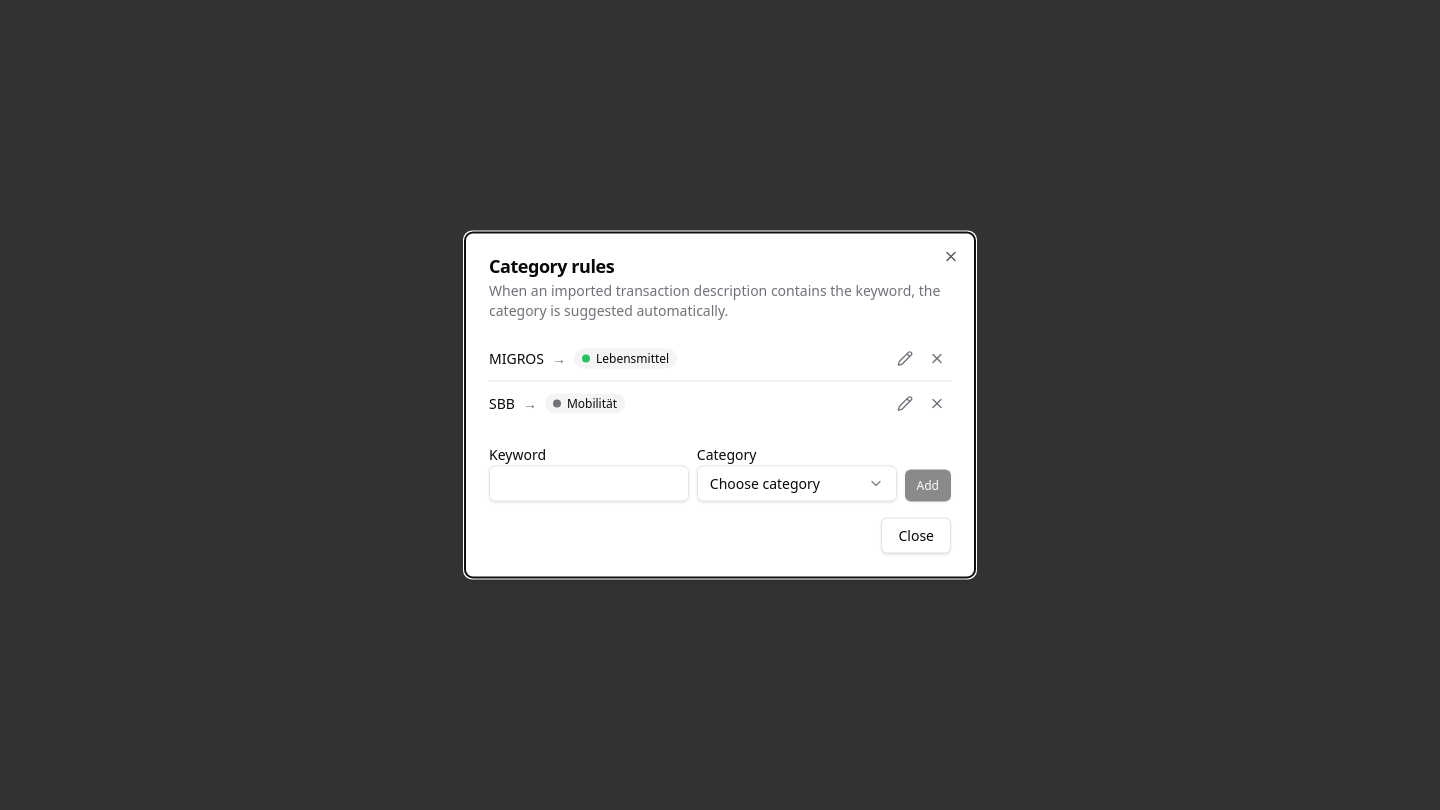
CategoryRulesDialog › shows the backend detail for any other error
Expected: the text "MIGROS" is shown, [489, 348, 544, 368]
Type "MIGROS" into the field labelled "Keyword" at (589,484), box [489, 466, 689, 502]
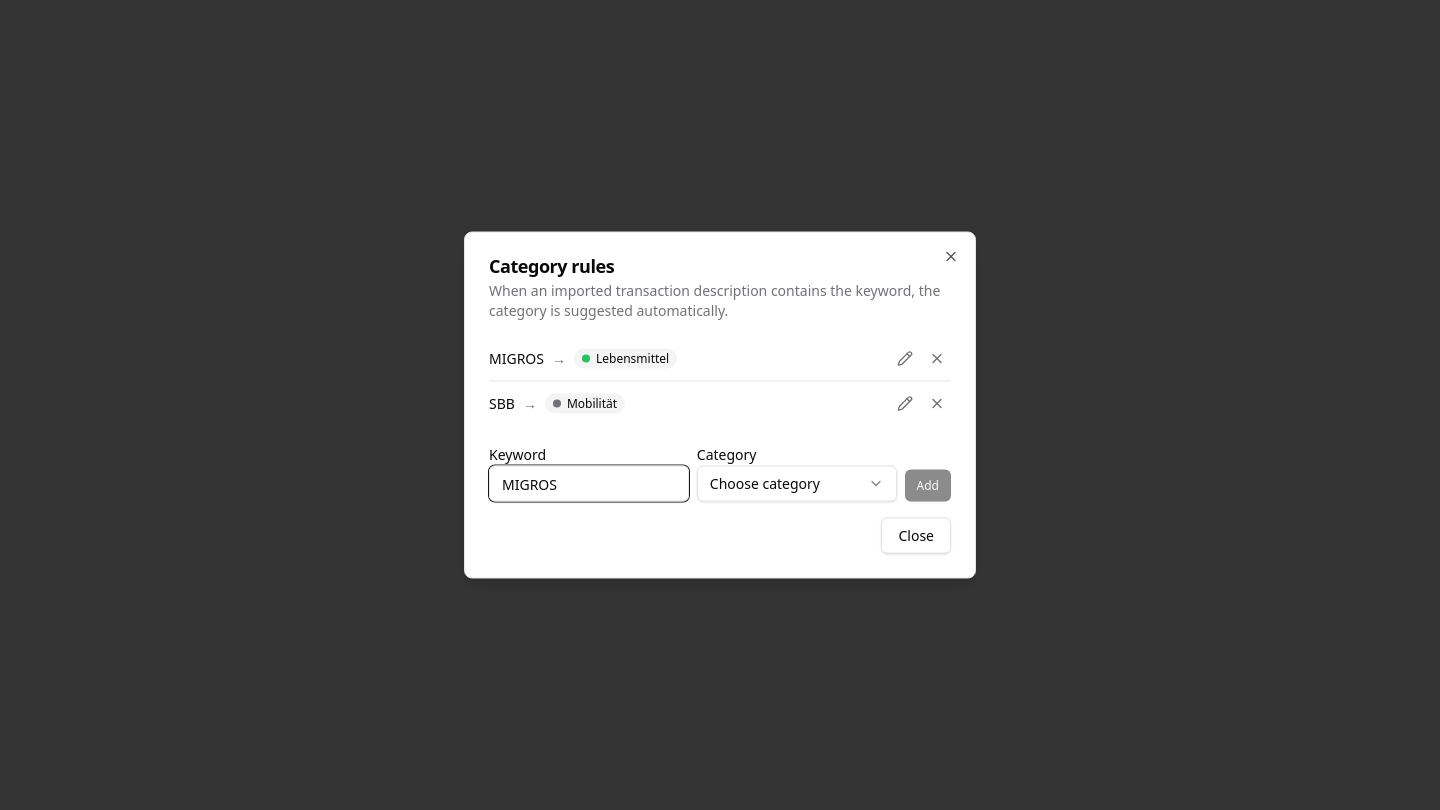
Click the dropdown labelled "category" at (797,484), box [697, 466, 897, 502]
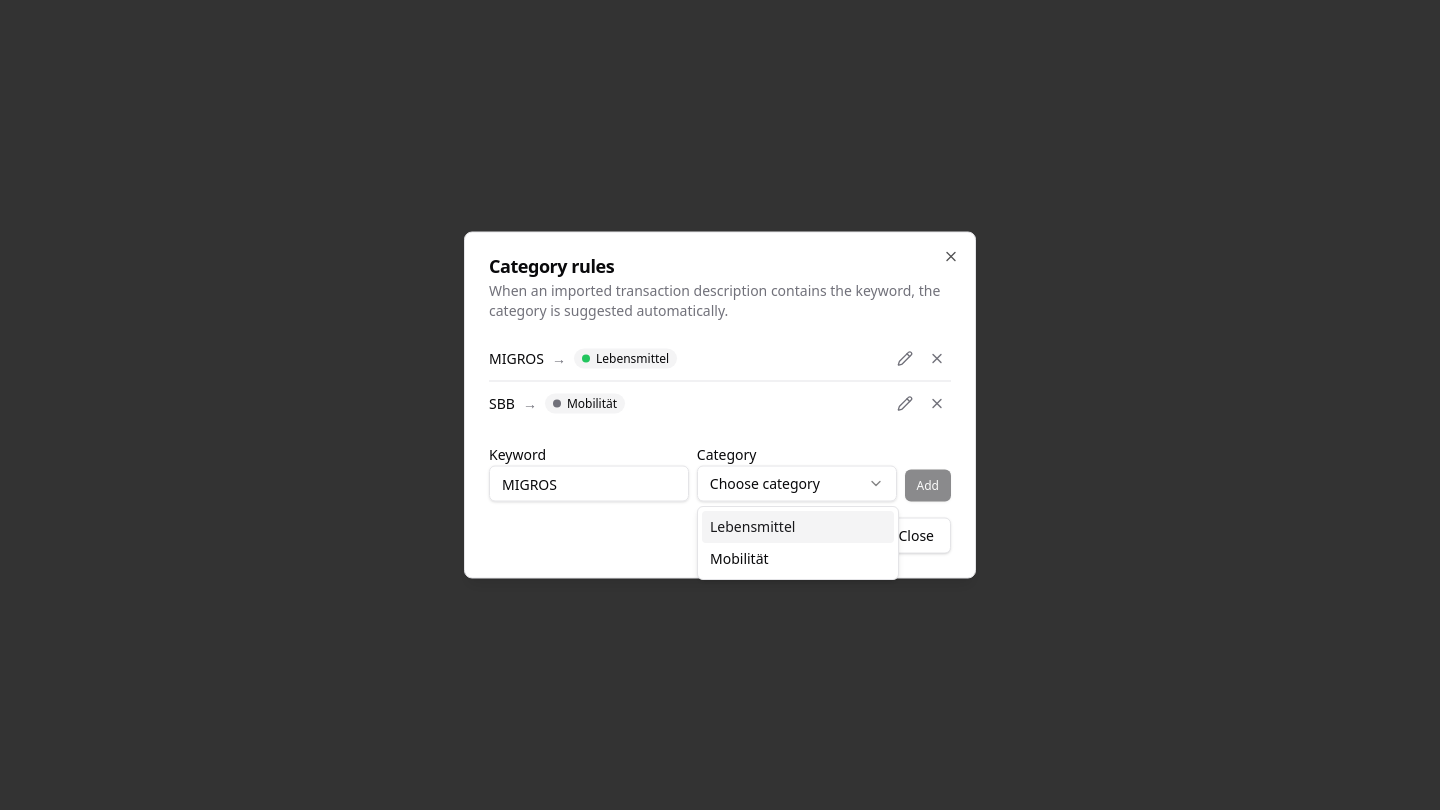
Click the option "Lebensmittel" at (798,527), box [702, 511, 894, 543]
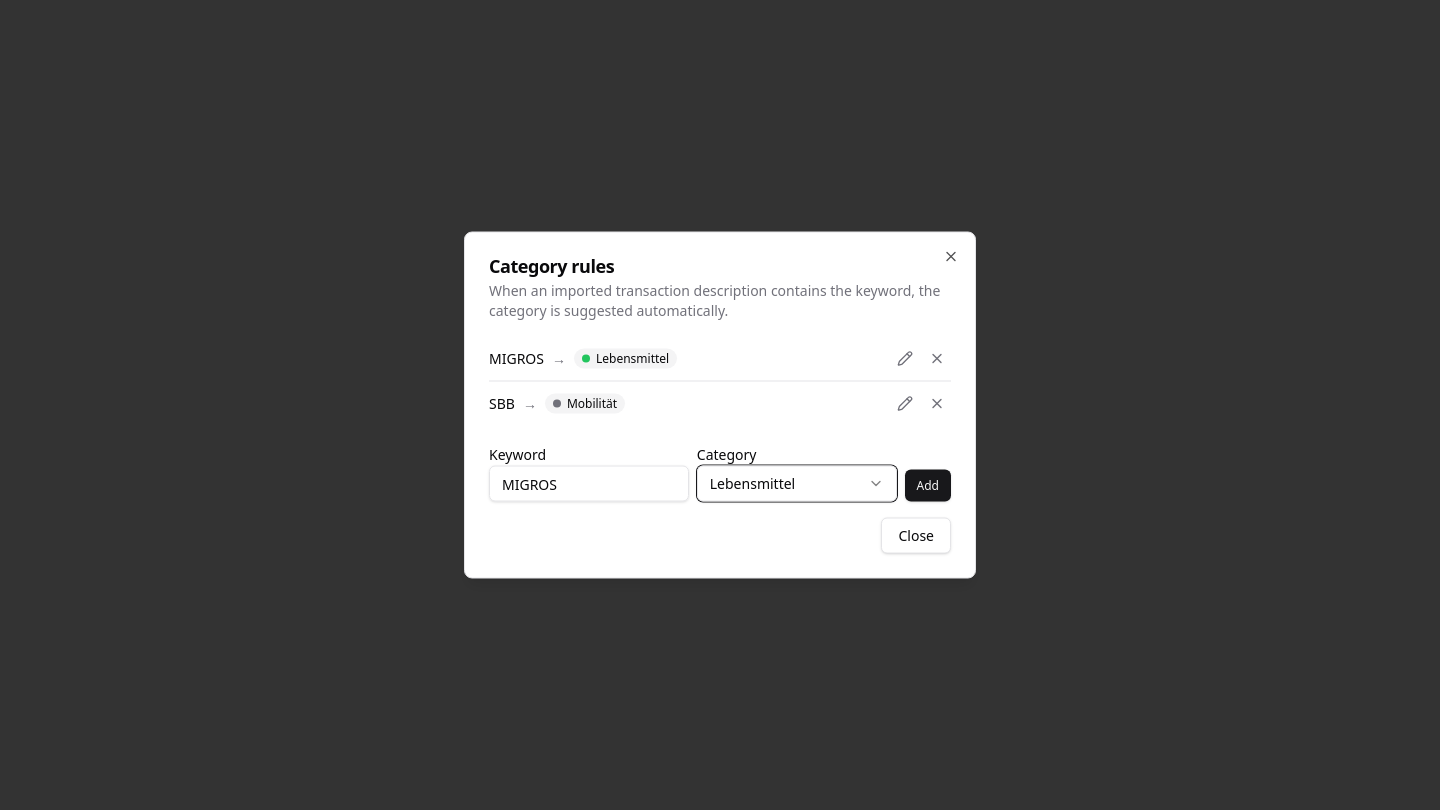
Click the button "Add" at (928,486), box [905, 470, 951, 502]
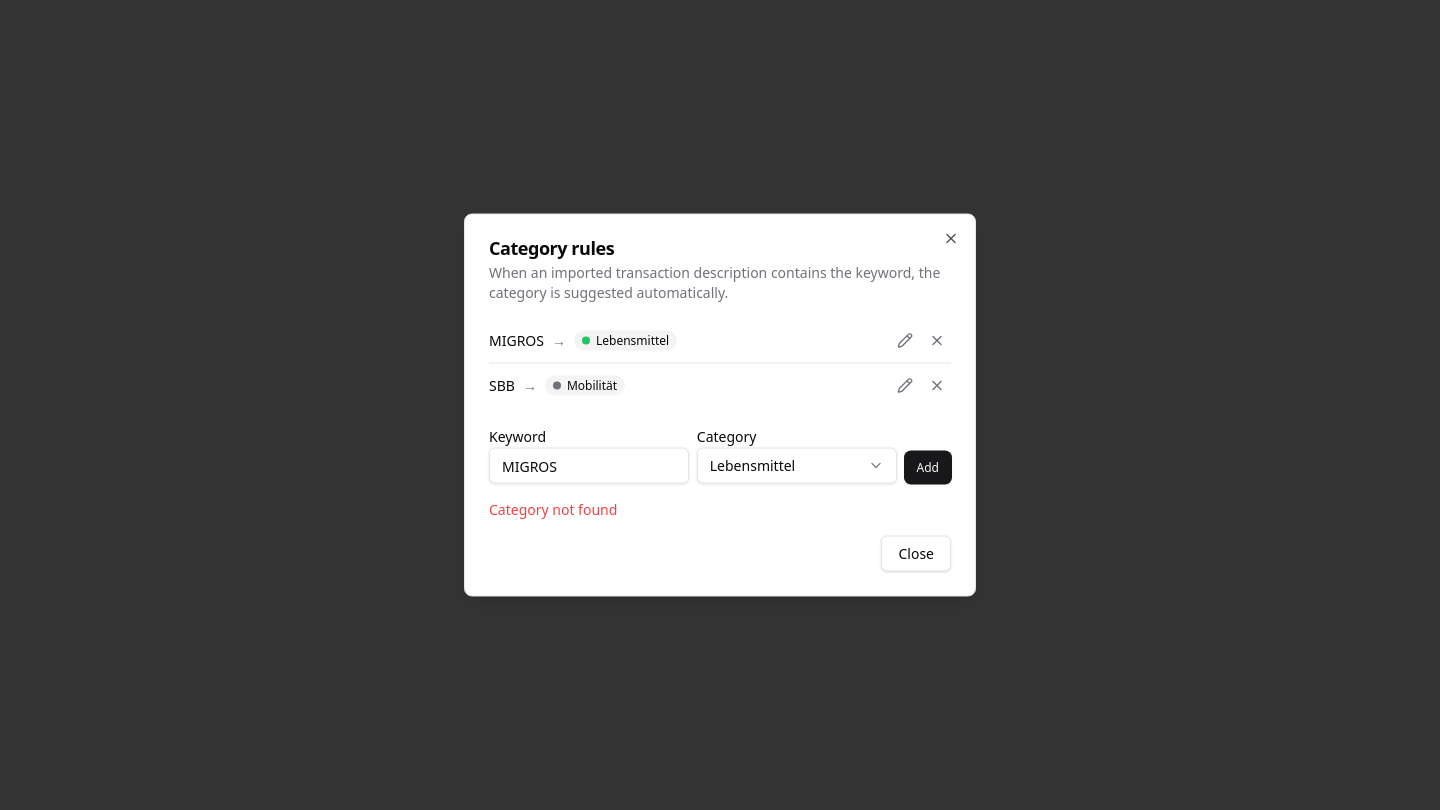
Expected: the text "Category not found" is shown, [489, 500, 617, 518]
